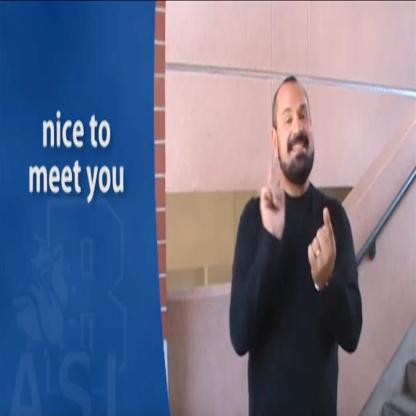NiceToMeetYou: (243, 139, 338, 357)
